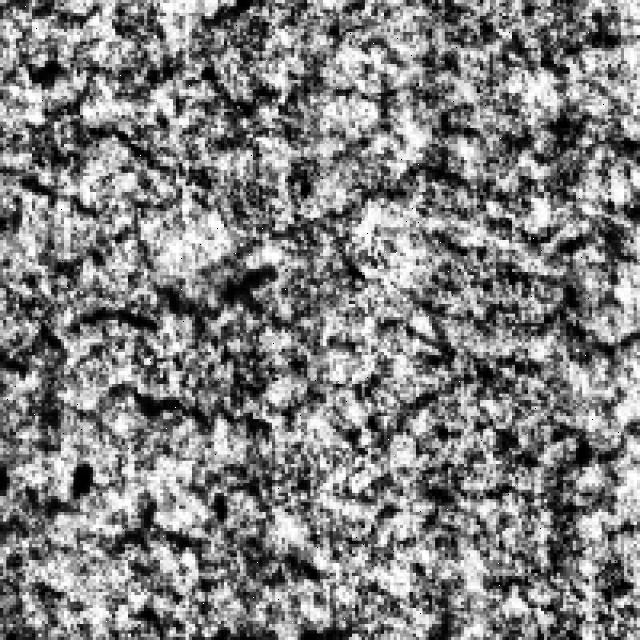Pitted_Surface: (45, 214, 640, 518), (3, 3, 640, 205)
